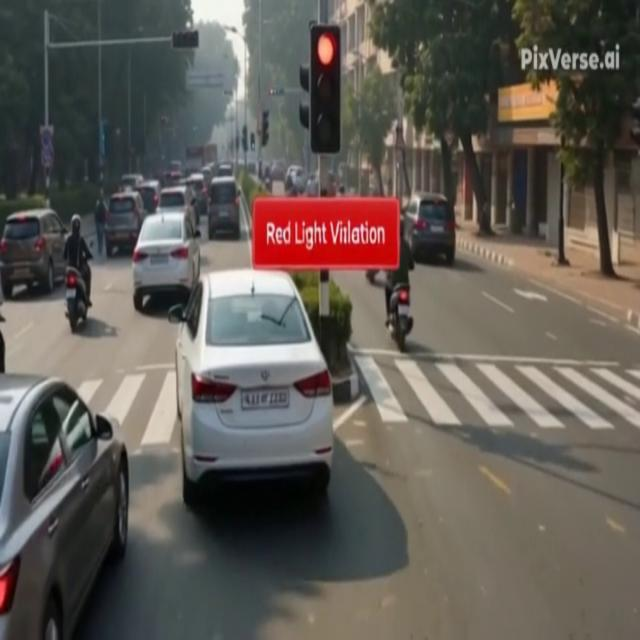car: (169, 269, 333, 508), (0, 375, 129, 639), (133, 213, 200, 311), (0, 209, 66, 299), (404, 193, 456, 265), (105, 190, 146, 256), (208, 177, 241, 239), (156, 184, 197, 228), (186, 173, 209, 225), (135, 180, 161, 213), (120, 174, 143, 188), (271, 160, 285, 181), (215, 162, 234, 177), (200, 167, 213, 187)
scooty: (388, 284, 413, 352), (65, 267, 88, 333), (0, 331, 5, 374), (365, 270, 377, 284)
traffic signal: (309, 24, 341, 155), (172, 30, 198, 49), (630, 97, 639, 145), (300, 65, 309, 94), (261, 110, 268, 147), (99, 120, 105, 158), (242, 126, 247, 151), (269, 88, 284, 96), (250, 132, 255, 151), (160, 115, 168, 125), (235, 135, 239, 151)
truck: (186, 143, 218, 172), (203, 143, 217, 165)
